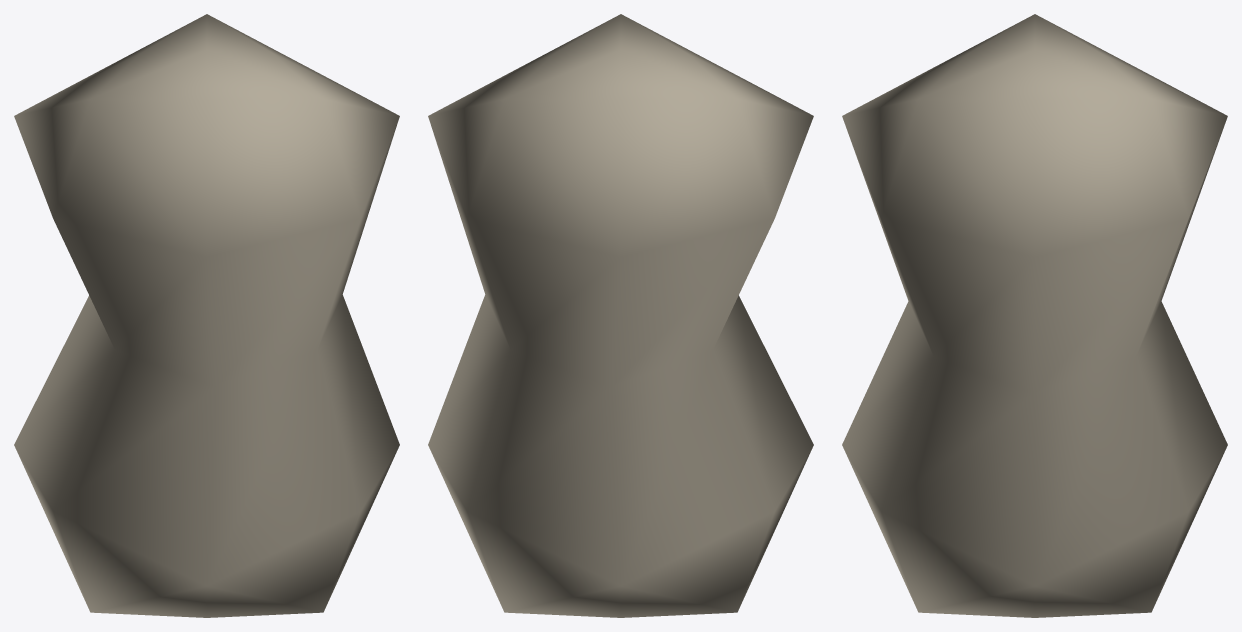
File: MufflerSmoke.fbx
The picture shows the model from 3 angles, left to right: view 1: azimuth 30°, elevation 25°; view 2: azimuth 150°, elevation 25°; view 3: azimuth 270°, elevation 25°; orthographic projection.
Visible parts, largest first — view 1: MufflerSmoke; view 2: MufflerSmoke; view 3: MufflerSmoke.
Part boxes in pixels (bbox=[...]): MufflerSmoke: bbox=[14, 14, 399, 617]; MufflerSmoke: bbox=[428, 14, 813, 617]; MufflerSmoke: bbox=[842, 14, 1227, 617].
Bounding box in the file's own units: 3.08 × 4.73 × 2.97.
1 material, 1 textured.
